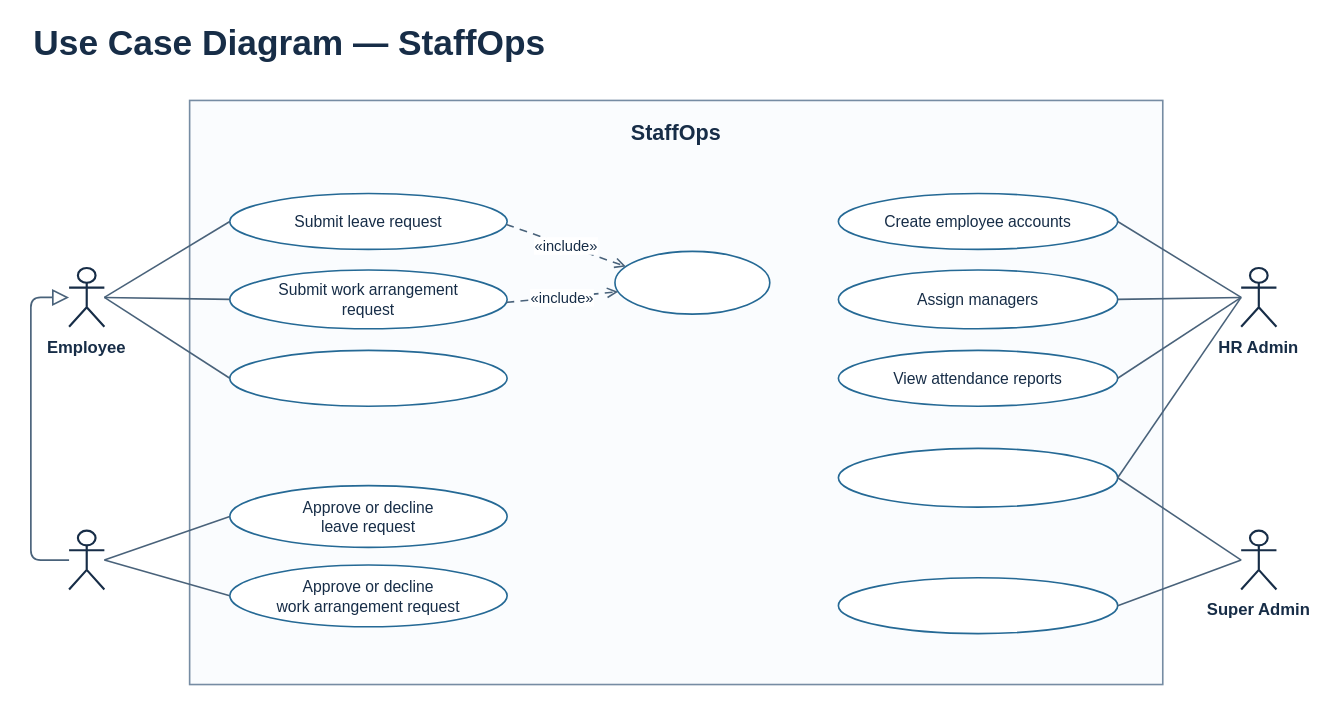
This 1328x702 diagram has some shape labels left out. The centre of each missing label's shape, as x and y in pixels:
"Manage companies and departments" goes at pixel 977 477.
"Manage roles" goes at pixel 977 605.
"Manager" goes at pixel 86 559.
"Track request status" goes at pixel 368 378.
"Validate request dates" goes at pixel 692 282.
